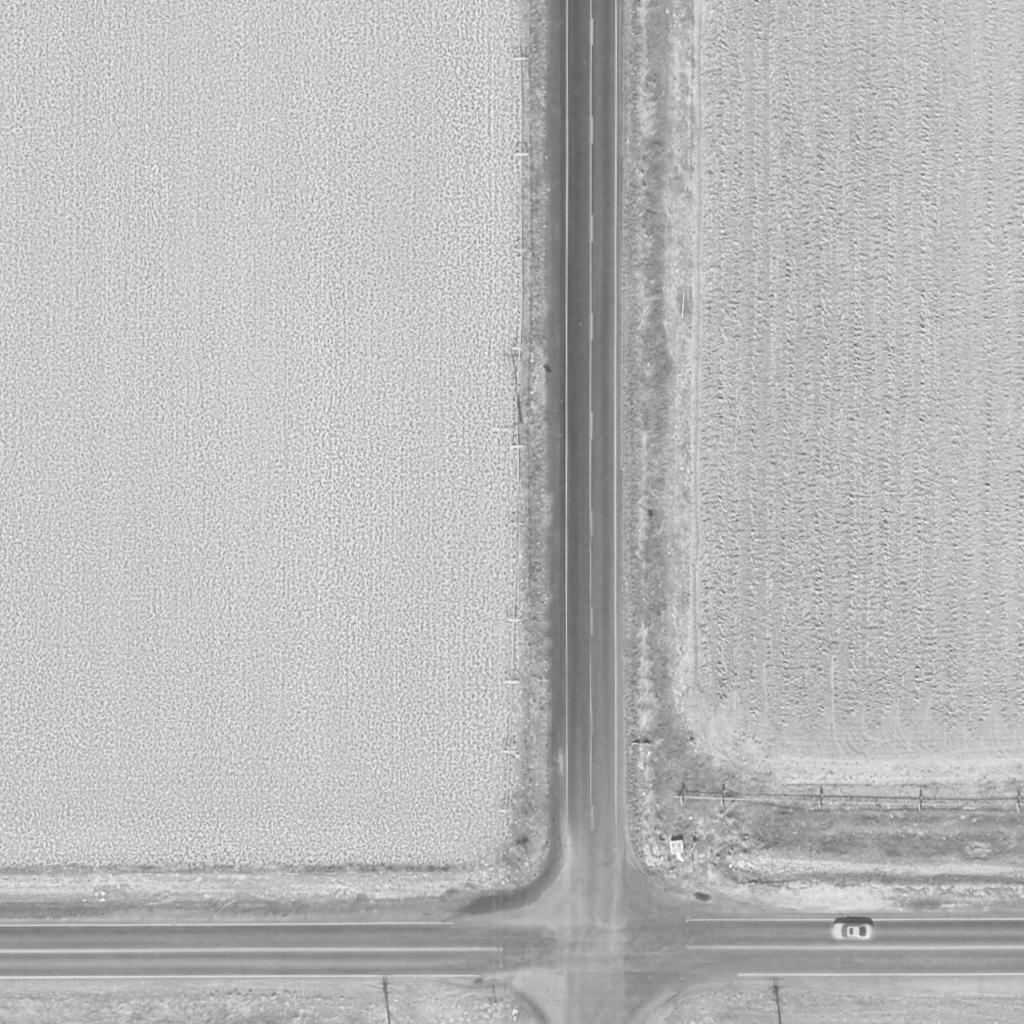vehicle: (831, 922, 877, 942)
